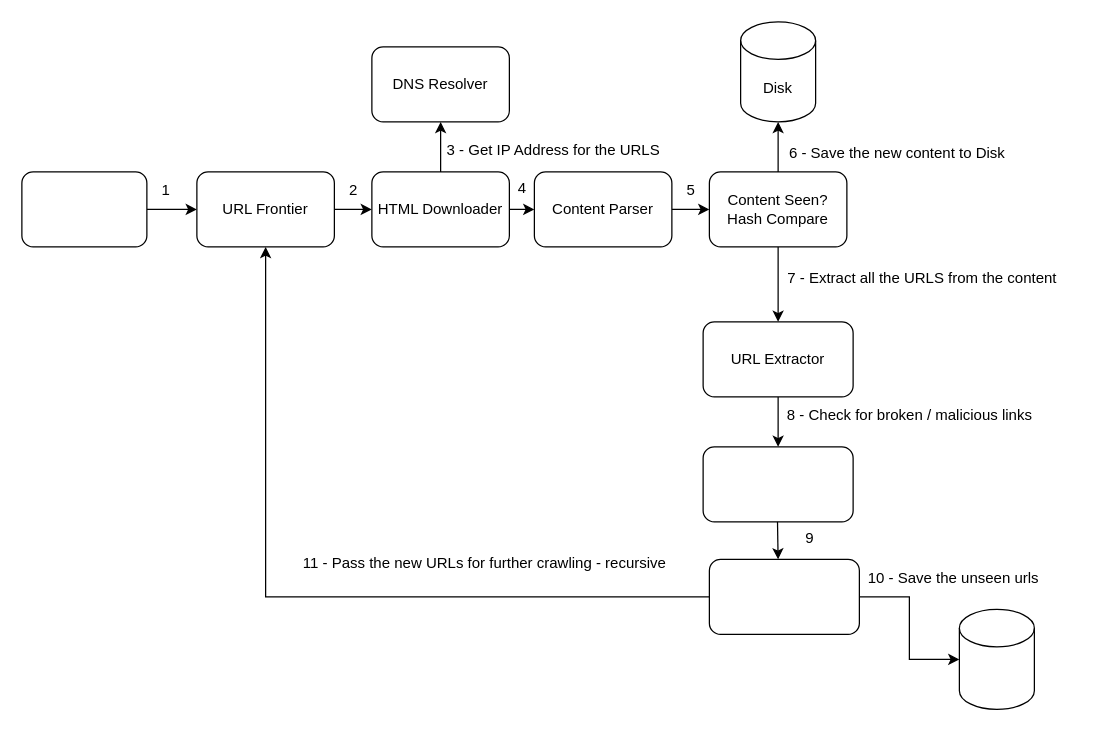
The diagram is 1094 pixels wide and 731 high, and some of its shapes have lost their labels. The centre of each missing label's shape, as x and y in pixels:
Seed URLs: (x=84, y=209)
URL Filter: (x=777, y=484)
URL Seen?: (x=783, y=596)
